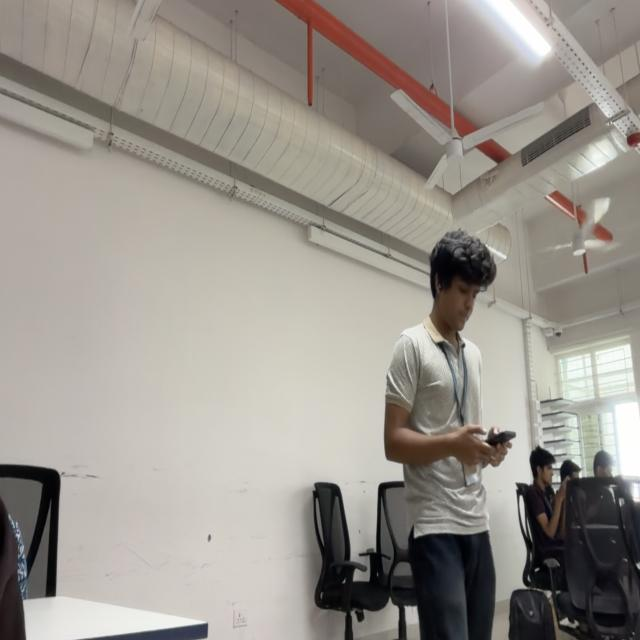kshitij: (428, 229, 497, 335)
